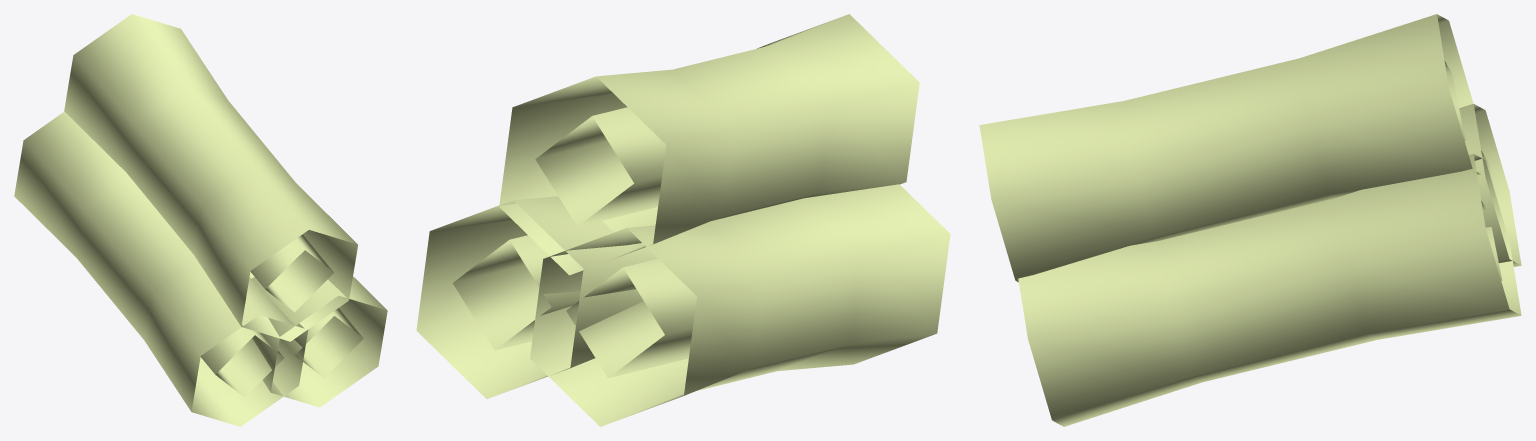
3 views of the same model, side by side, from view 1: azimuth 30°, elevation 25°; view 2: azimuth 150°, elevation 25°; view 3: azimuth 270°, elevation 25° (orthographic). The views are drawn at different scales.
Visible parts, largest first — view 1: Carriage04-1; view 2: Carriage04-1; view 3: Carriage04-1.
Part boxes in pixels (x1,y1,x2,y2): Carriage04-1: [14, 14, 387, 426]; Carriage04-1: [416, 14, 950, 426]; Carriage04-1: [979, 14, 1521, 426].
Bounding box in the file's own units: 120 × 183 × 233.
